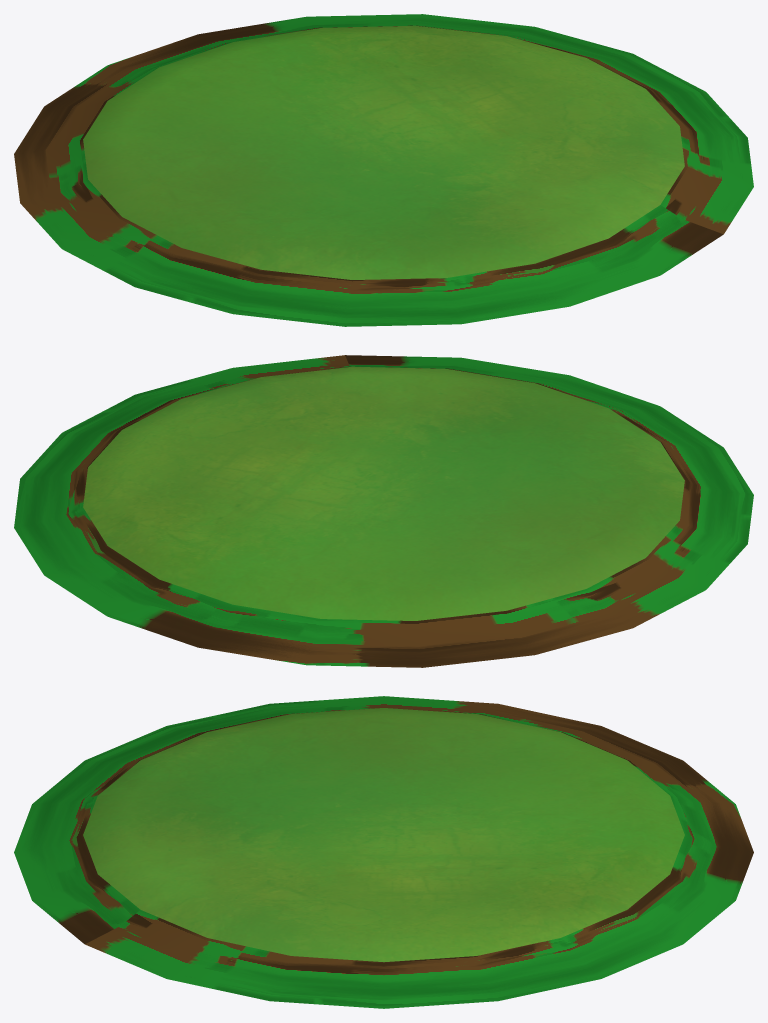
File: grass mound 2.fbx
3 renders of one model, top to bottom at view 1: azimuth 30°, elevation 25°; view 2: azimuth 150°, elevation 25°; view 3: azimuth 270°, elevation 25°, orthographic.
Parts seen in each view (by area): view 1: pCylinder5; view 2: pCylinder5; view 3: pCylinder5.
Part boxes in pixels (x1,y1,x2,y2): pCylinder5: [14, 14, 753, 326]; pCylinder5: [14, 355, 753, 667]; pCylinder5: [14, 696, 753, 1008].
Bounding box in the file's own units: 2.46 × 0.0986 × 2.46.
Materials: 2 (2 with a texture image).
